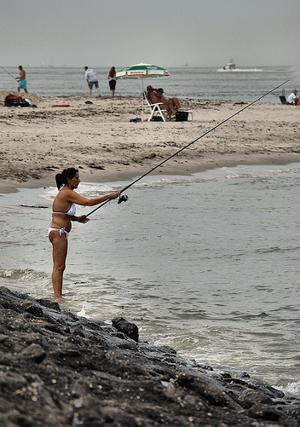person: (47, 168, 119, 299)
